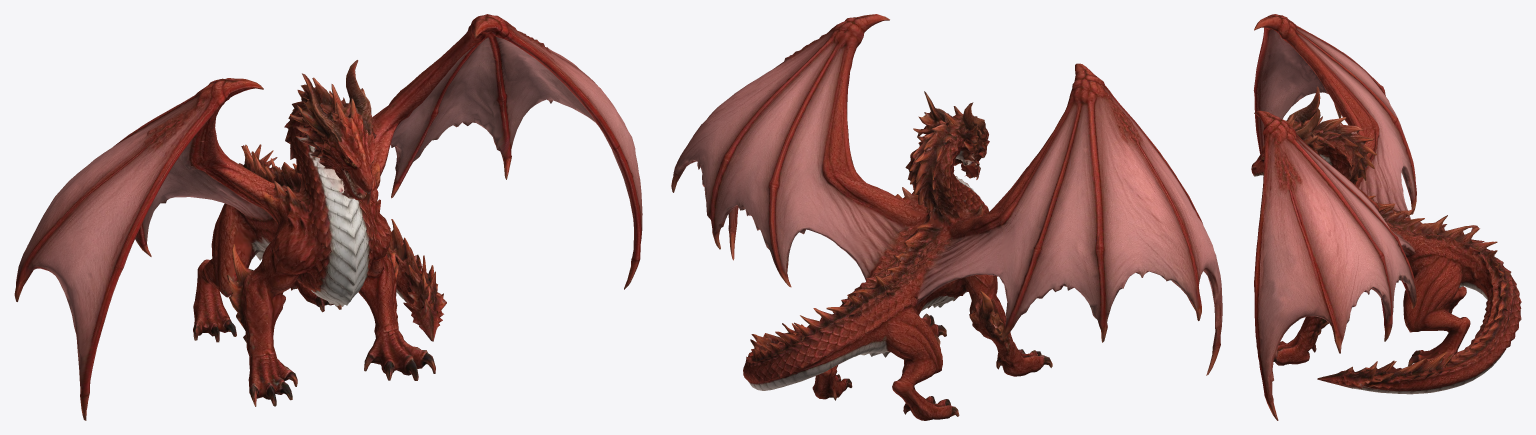
File: dragon.glb
3 renders of one model, left to right at view 1: azimuth 30°, elevation 25°; view 2: azimuth 150°, elevation 25°; view 3: azimuth 270°, elevation 25°, orthographic. The views are drawn at different scales.
Visible parts, largest first — view 1: mesh_node_Default; view 2: mesh_node_Default; view 3: mesh_node_Default.
Part boxes in pixels (box(x1,y1,x2,y2)): mesh_node_Default: box(14, 14, 642, 420); mesh_node_Default: box(671, 14, 1222, 420); mesh_node_Default: box(1251, 14, 1521, 420).
Bounding box in the file's own units: 1.9 × 1.03 × 0.917.
Materials: 1 (1 with a texture image).
